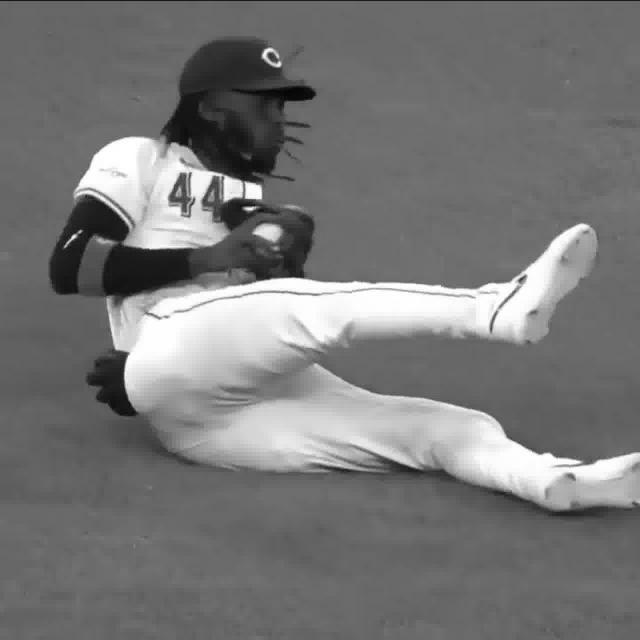baseball: (255, 219, 285, 238)
baseball_glove: (210, 198, 320, 284)
shoe: (497, 226, 607, 341), (524, 447, 640, 512)
